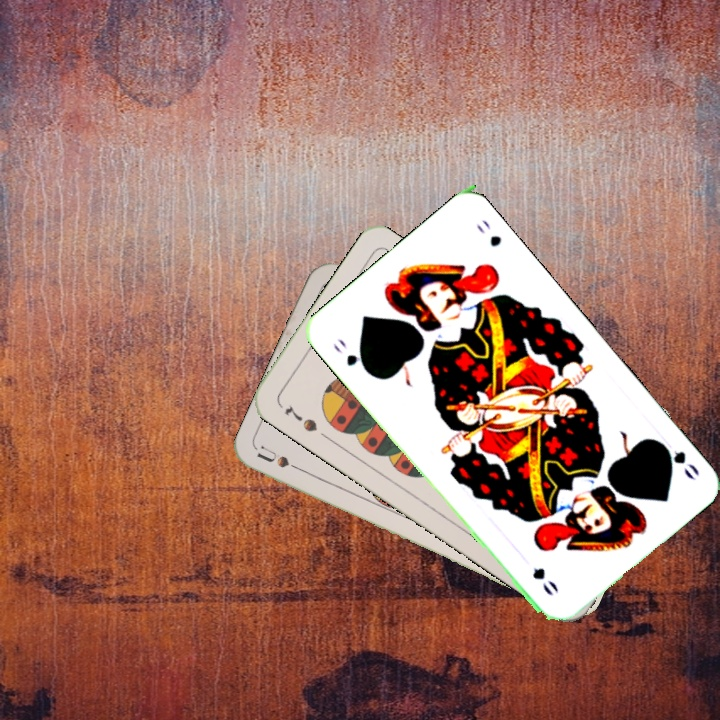GO: (653, 437, 702, 483), (329, 334, 373, 377)
S7: (280, 401, 320, 435)
SU: (254, 441, 312, 477)
